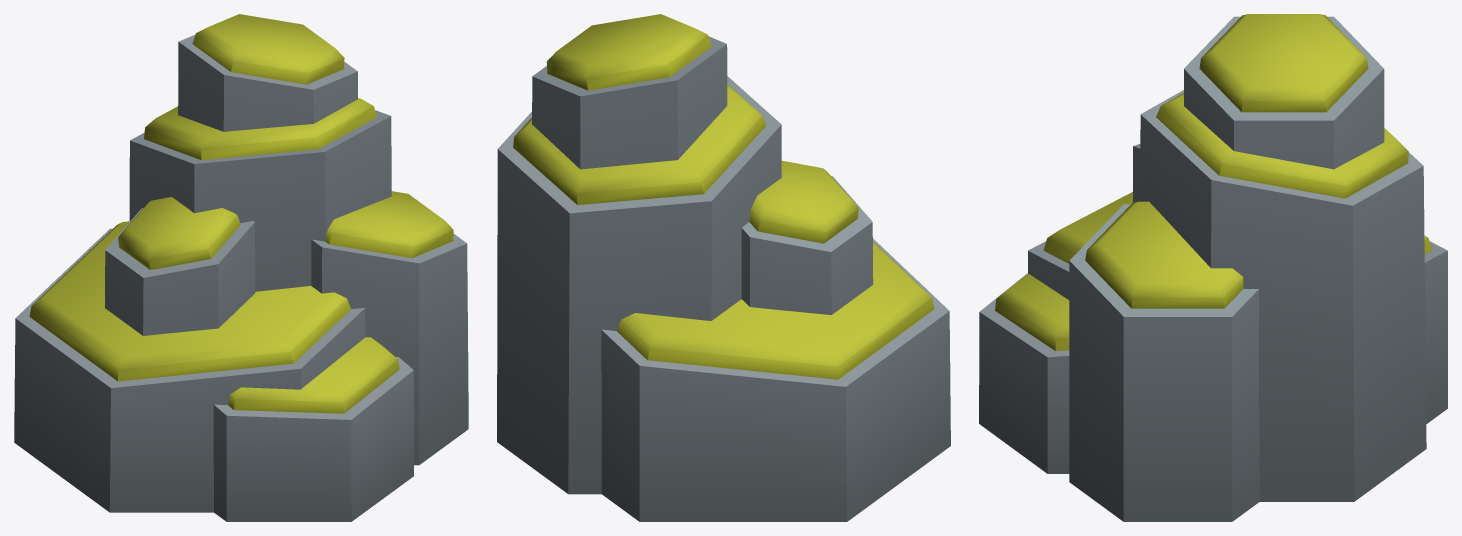
The model's file is mountain_B_grass.glb.
The picture shows the model from 3 angles, left to right: view 1: azimuth 30°, elevation 25°; view 2: azimuth 150°, elevation 25°; view 3: azimuth 270°, elevation 25°; orthographic projection. The views are drawn at different scales.
Visible parts, largest first — view 1: mountain_B_grass; view 2: mountain_B_grass; view 3: mountain_B_grass.
Part boxes in pixels (box(x1,y1,x2,y2)): mountain_B_grass: box(14, 14, 468, 521); mountain_B_grass: box(497, 14, 950, 521); mountain_B_grass: box(979, 14, 1447, 521).
Size of the model in its own units: 1.8 by 1.84 by 1.88.
Materials: 1 (1 with a texture image).
